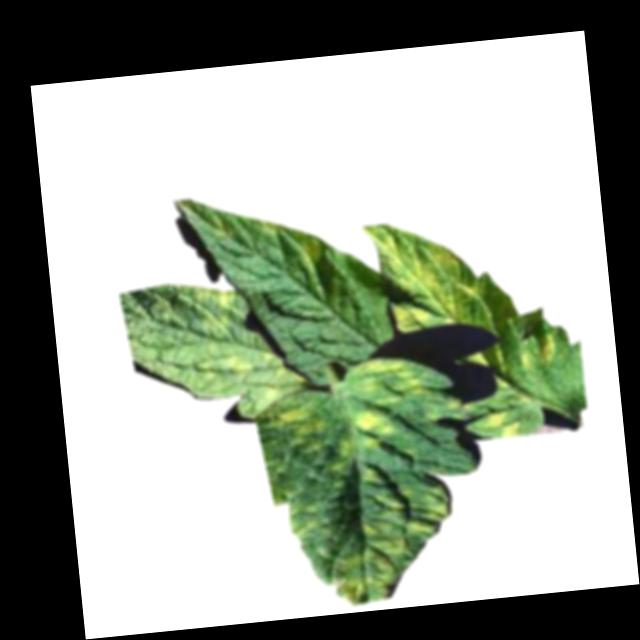Leaf_Mold: (320, 456, 462, 605), (364, 215, 497, 338), (179, 340, 305, 417), (344, 353, 430, 413), (184, 282, 241, 340), (332, 409, 395, 459), (276, 397, 326, 444), (515, 332, 560, 375), (288, 229, 322, 276), (479, 408, 523, 441), (251, 216, 282, 239)
